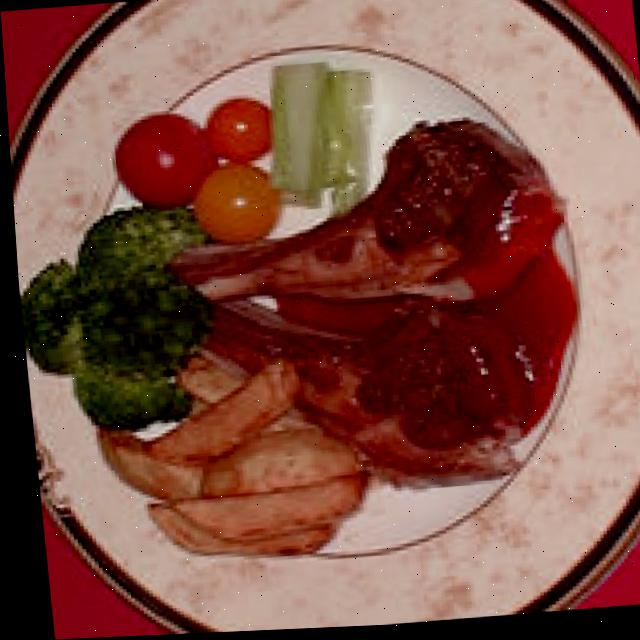牛肉菜式: (139, 111, 590, 513)
